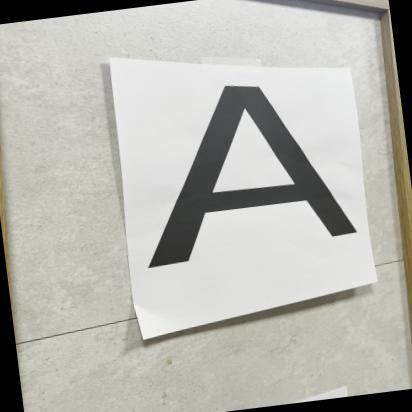seat: (117, 61, 377, 283)
